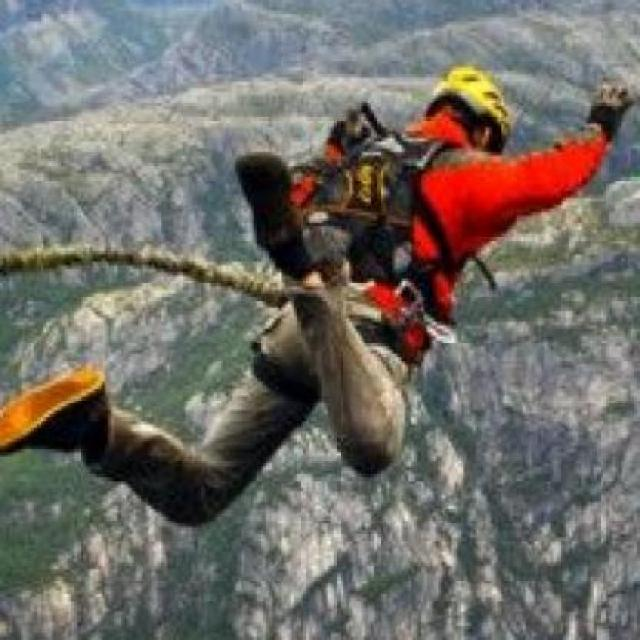fall: (0, 60, 637, 502)
